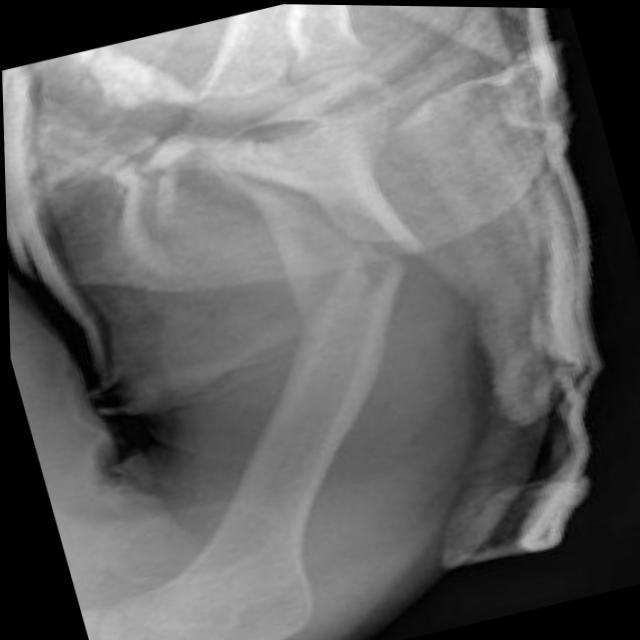fracture: (254, 210, 444, 336)
